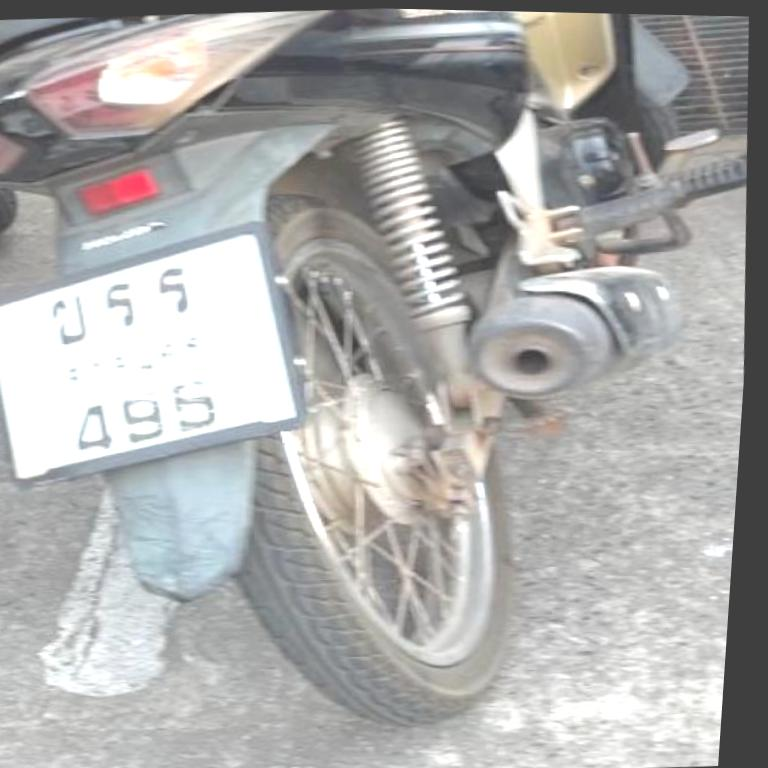license plate: (0, 206, 317, 497)
